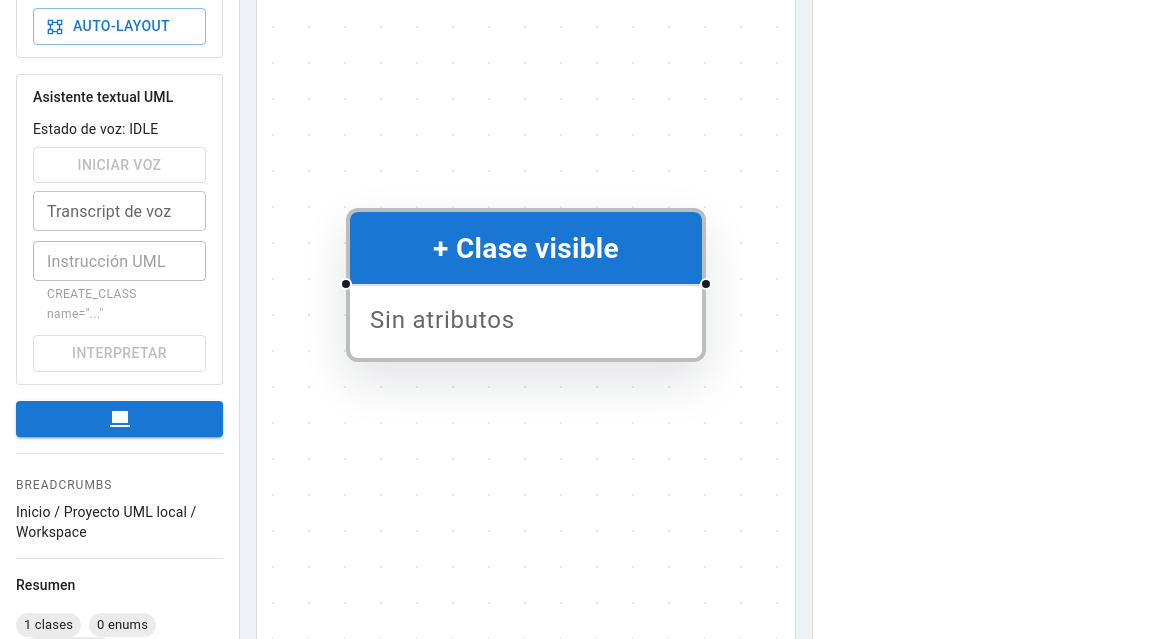
Test: ruta de workspace persistido › mantiene el workspace del VIEWER en solo lectura sin mutar el documento
(page scrolled)
Check: the button "Guardar" is not shown
Step 1. Click the button with test id "uml-node-Clase visible" → [526, 285], box [346, 208, 706, 362]
(page scrolled)
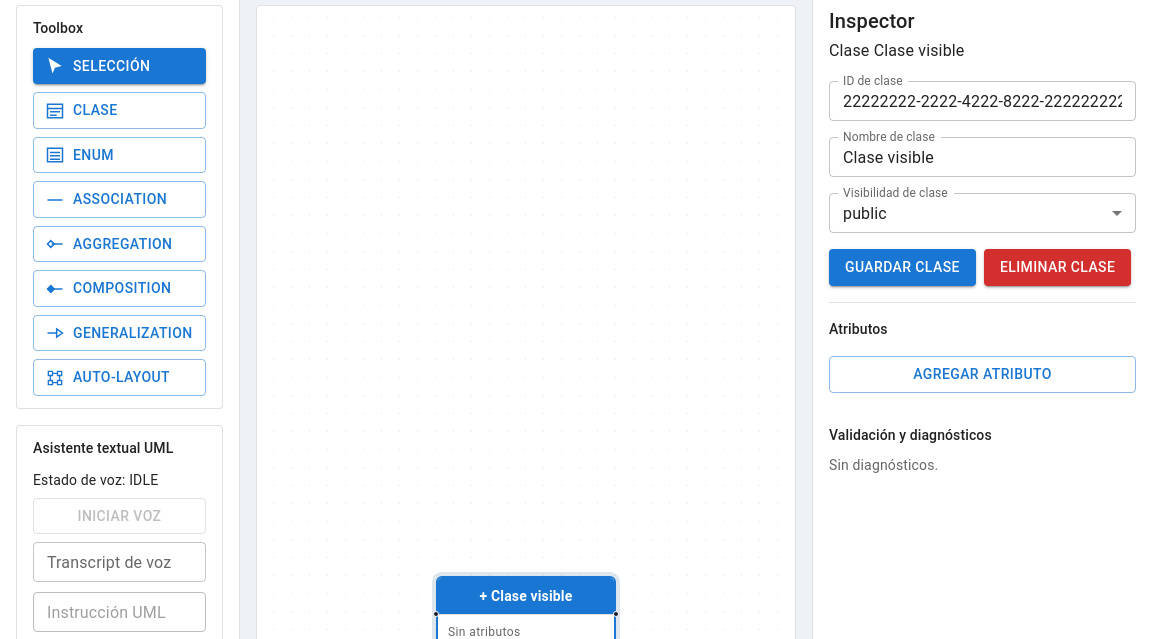
Check: the heading "Clase Clase visible" is shown, box [829, 41, 964, 60]
